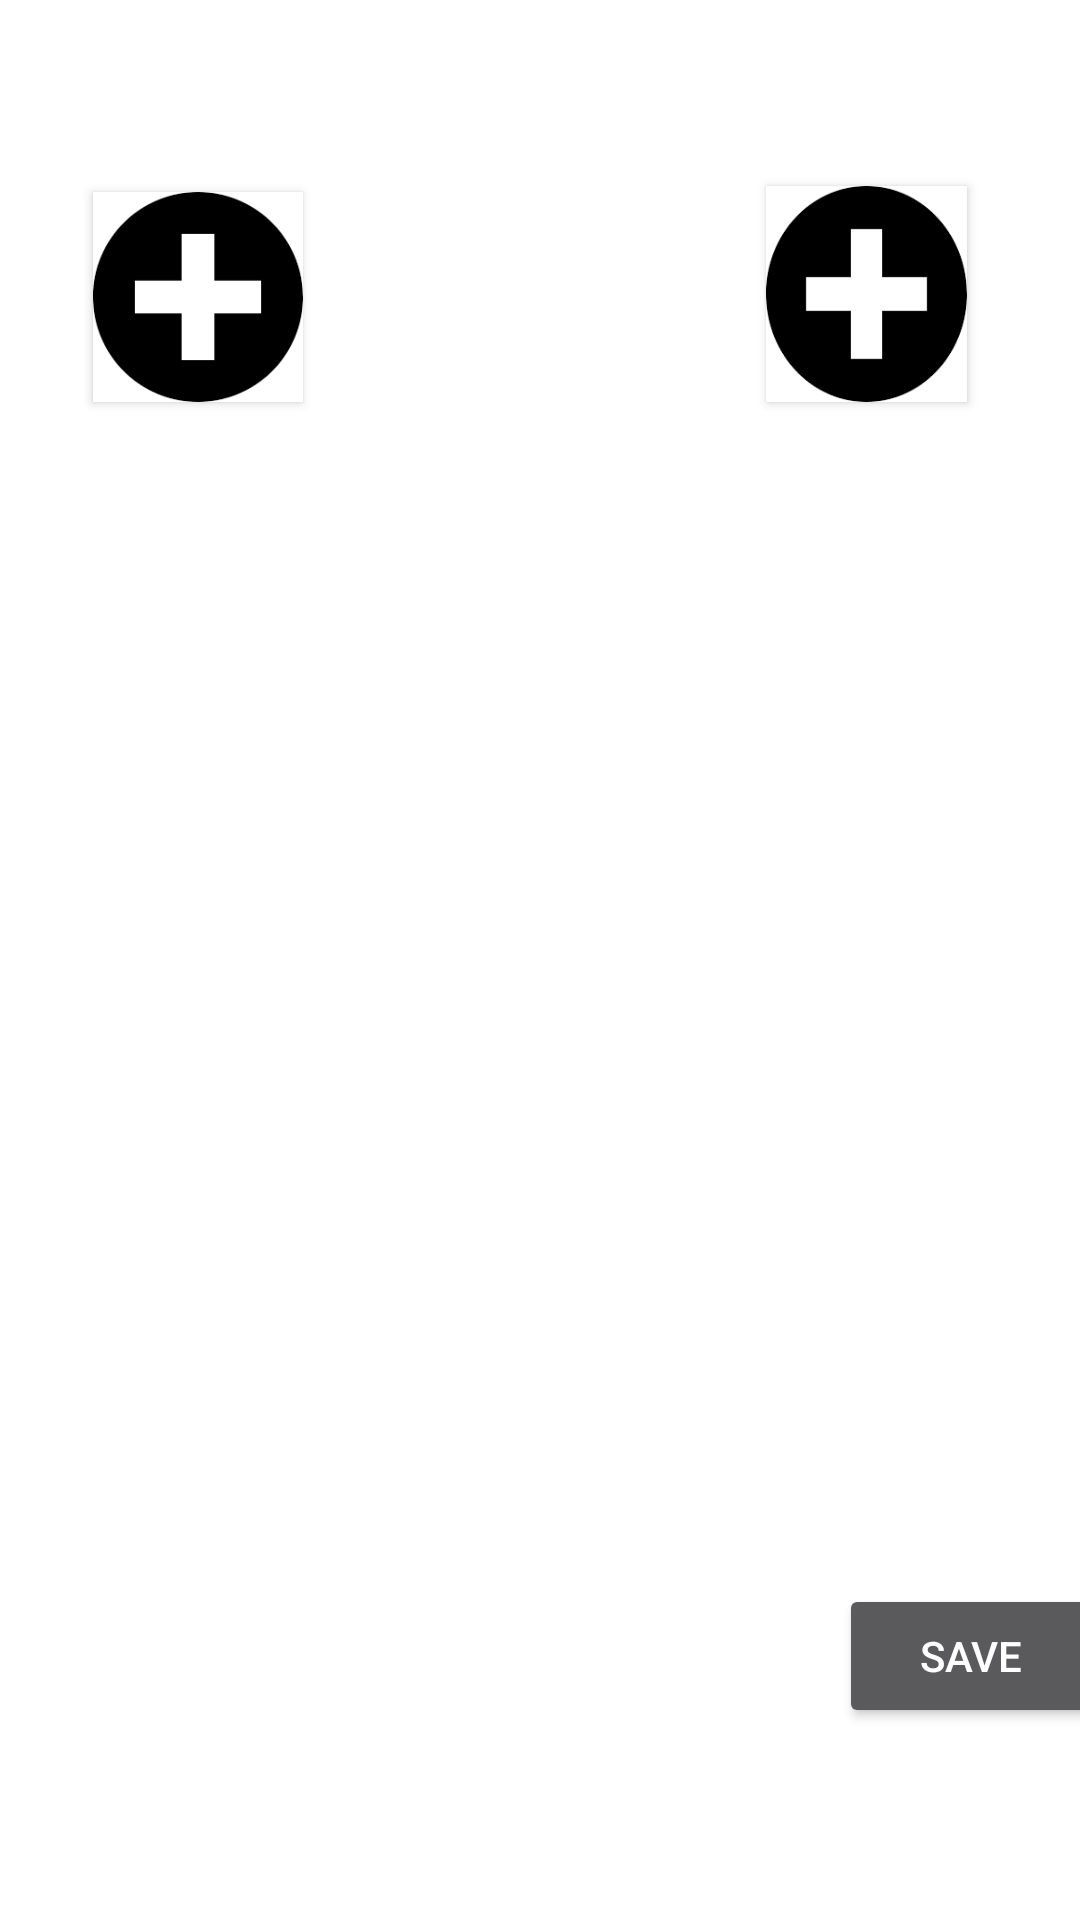

Icon click points for this 1080 × 1920 phone screenshot, format (x=x, y=y):
plus: (x=866, y=294), (x=198, y=297)
